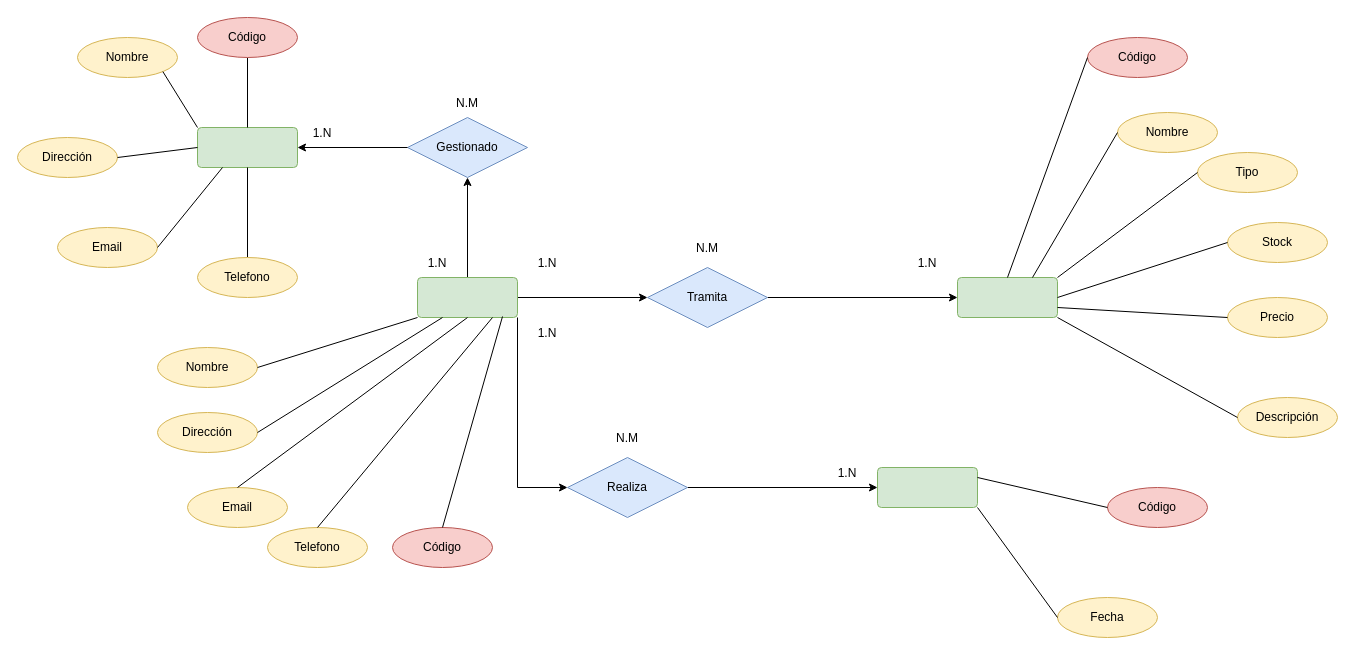
This 1355x655 diagram has some shape labels left out. Here are the shapes that lost their labels. From the top down, the centre of each, then its label:
At [247,147]: "Encargado".
At [467,297]: "Empleado".
At [1007,297]: "Producto".
At [927,487]: "Venta".
